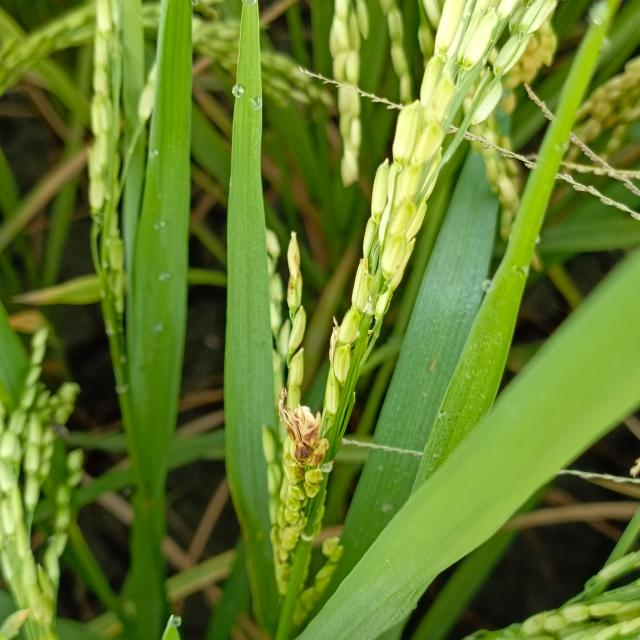Brown spot: (21, 163, 73, 215), (187, 486, 225, 553), (544, 502, 624, 526), (10, 287, 37, 331)
